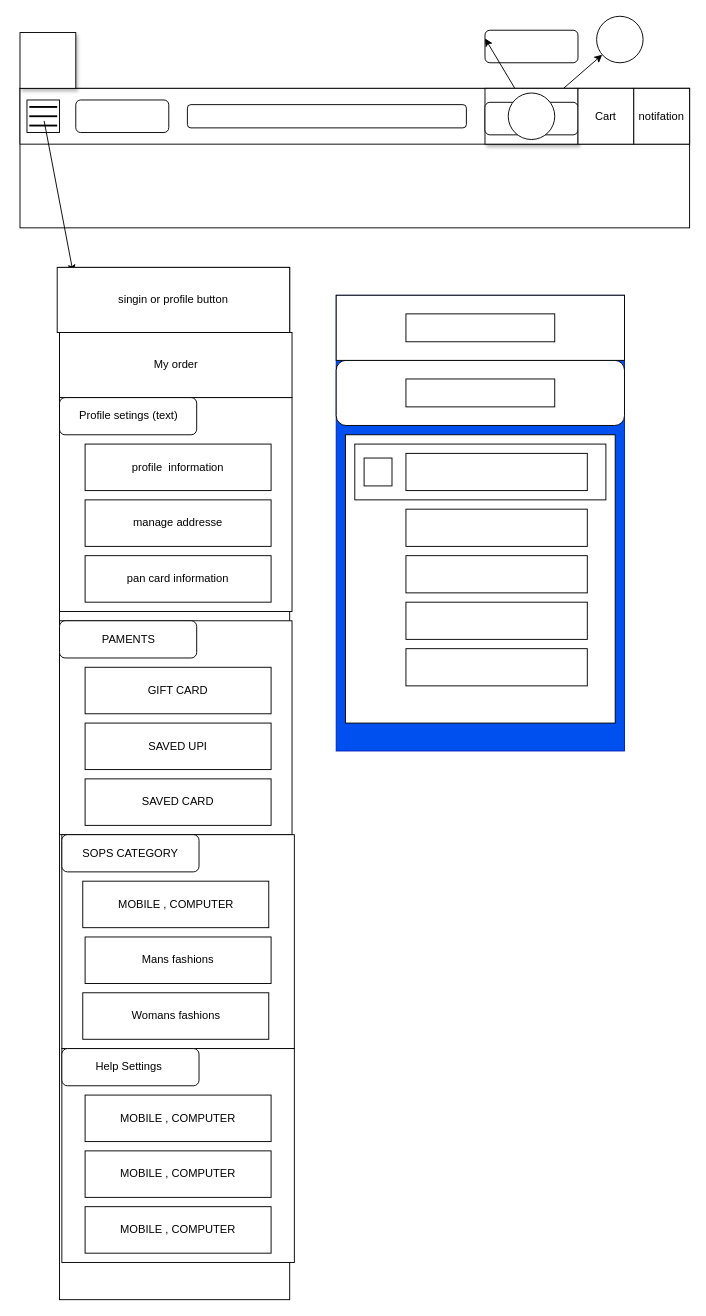
This 706x1316 diagram has some shape labels left out. The centre of each missing label's shape, as x and y in pixels:
"Login / Singup" belongs at point 531,46.
"Logo" belongs at point 122,116.
"profile" belongs at point 619,39.
"Serch Bar" belongs at point 326,116.
